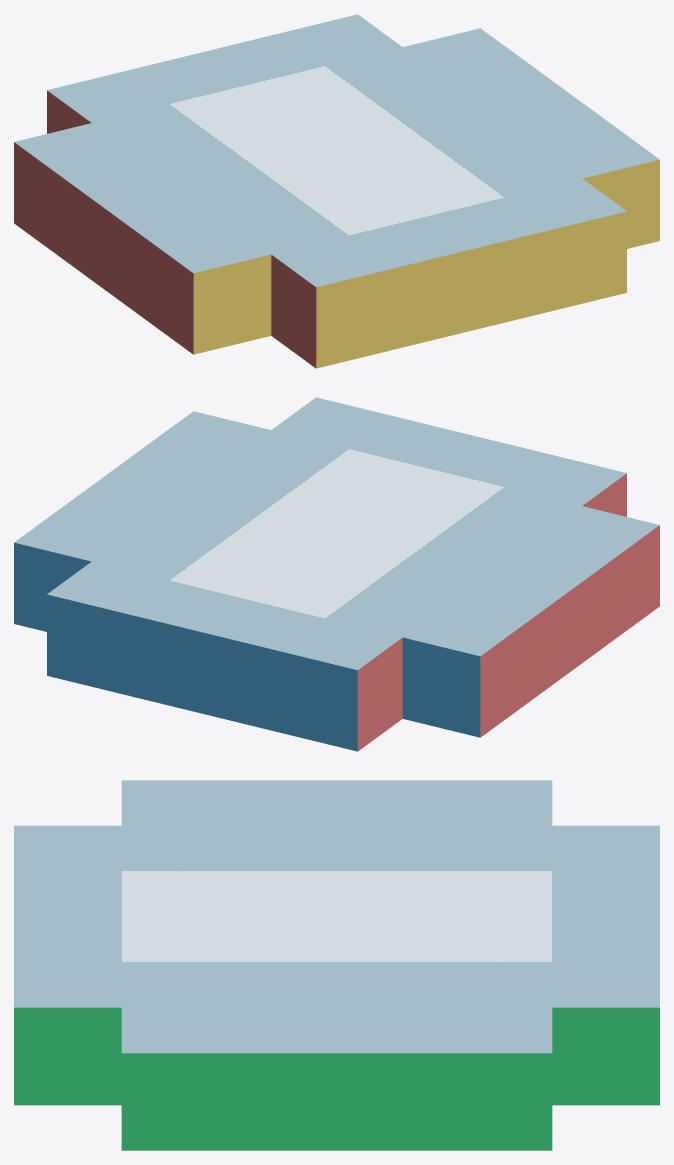
The model's file is CopperCoin.fbx.
3 renders of one model, top to bottom at view 1: azimuth 30°, elevation 25°; view 2: azimuth 150°, elevation 25°; view 3: azimuth 270°, elevation 25°, orthographic. The views are drawn at different scales.
Parts seen in each view (by area): view 1: cube_1, cube_2, cube; view 2: cube_1, cube_2, cube; view 3: cube_1, cube, cube_2.
Part boxes in pixels (left/top/right/bottom): cube_1: left=47, top=14, right=626, bottom=368; cube_2: left=14, top=123, right=271, bottom=354; cube: left=403, top=28, right=659, bottom=248; cube_1: left=47, top=397, right=626, bottom=751; cube_2: left=402, top=506, right=659, bottom=737; cube: left=14, top=411, right=270, bottom=631; cube_1: left=14, top=825, right=659, bottom=1105; cube: left=121, top=1007, right=552, bottom=1150; cube_2: left=121, top=780, right=552, bottom=825.
Size of the model in its own units: 37.5 by 6.25 by 37.5.
Materials: 1 (1 with a texture image).
